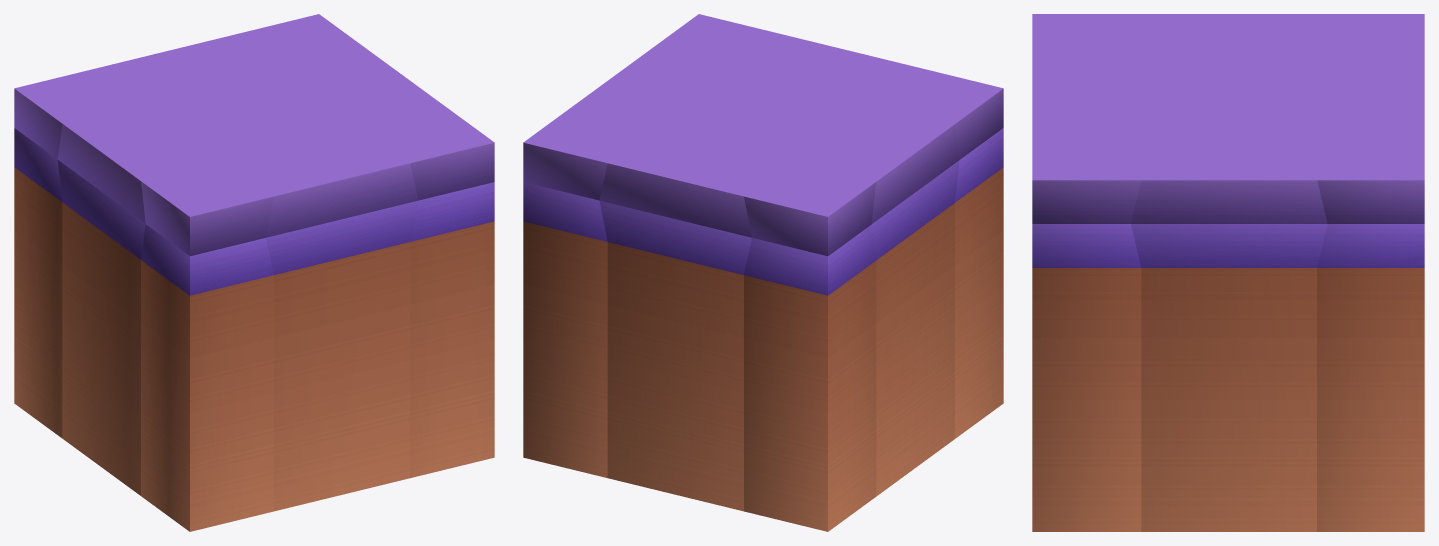
Rendered from bloco de grama.glb.
3 views of the same model, side by side, from view 1: azimuth 30°, elevation 25°; view 2: azimuth 150°, elevation 25°; view 3: azimuth 270°, elevation 25° (orthographic). The views are drawn at different scales.
Visible parts, largest first — view 1: block-grass; view 2: block-grass; view 3: block-grass.
Boxes of the visible parts, box(x1,y1,x2,y2) form: block-grass: box(14, 14, 494, 531); block-grass: box(523, 14, 1003, 531); block-grass: box(1032, 14, 1424, 531).
Bounding box in the file's own units: 1.01 × 1 × 1.01.
Materials: 1 (1 with a texture image).
